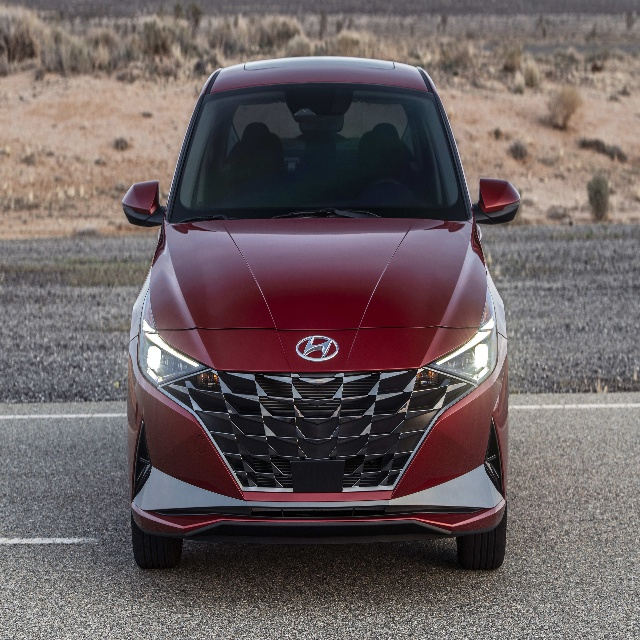Car: (122, 56, 520, 572)
